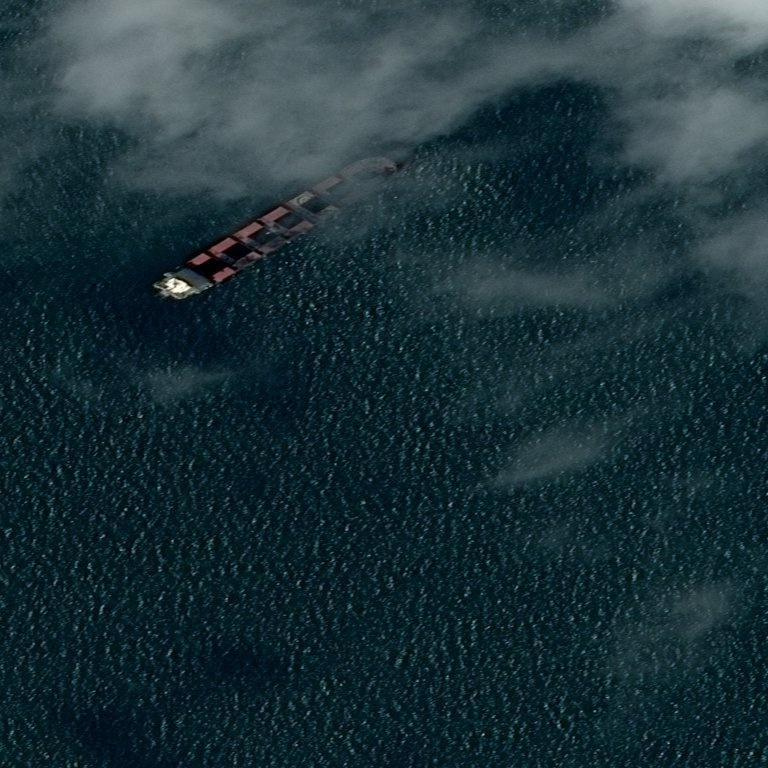ship: (141, 192, 400, 267), (21, 292, 32, 303), (382, 159, 393, 168), (149, 49, 160, 58)
